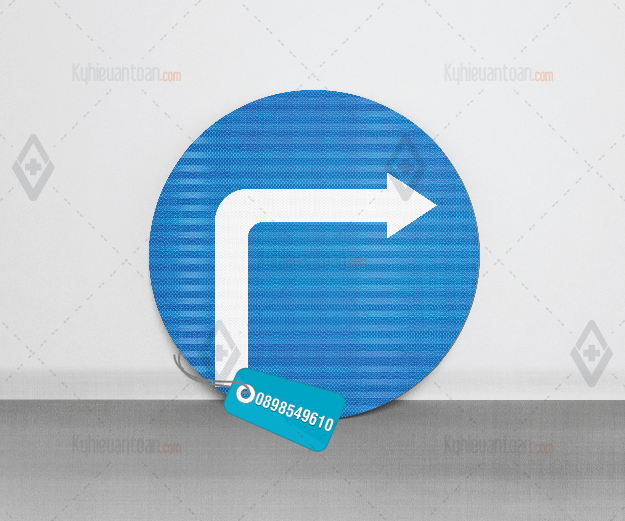Turn_right: (147, 87, 485, 417)
